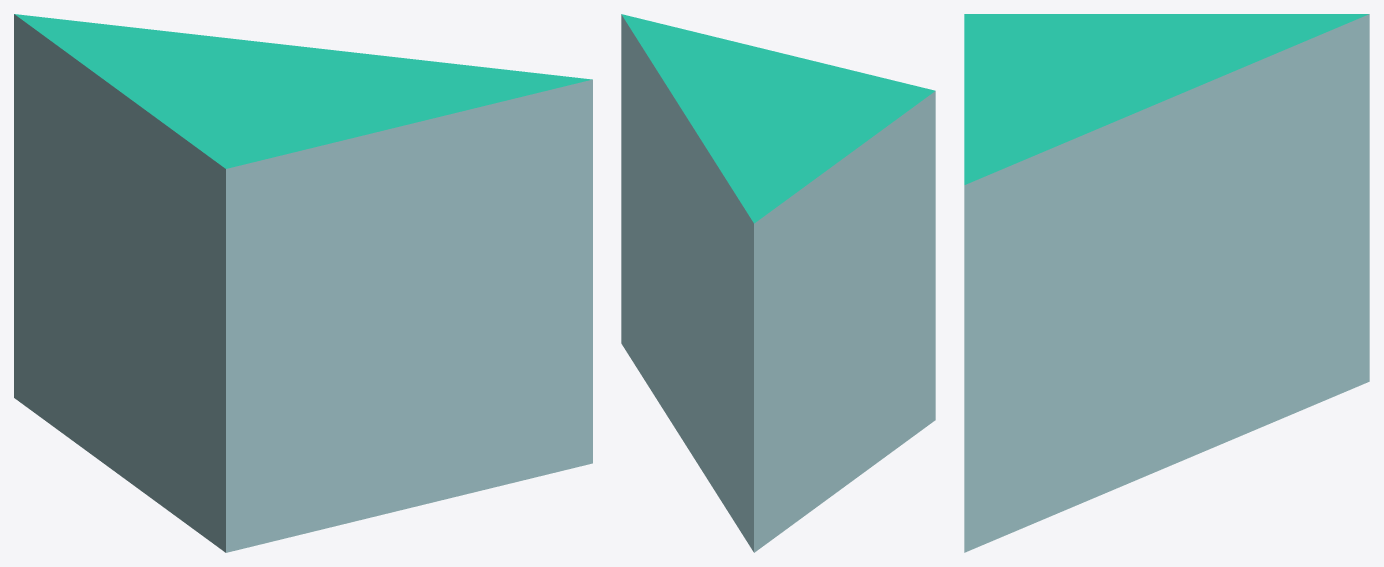
The model's file is cliff_blockDiagonal_stone.glb.
3 views of the same model, side by side, from view 1: azimuth 30°, elevation 25°; view 2: azimuth 150°, elevation 25°; view 3: azimuth 270°, elevation 25° (orthographic). The views are drawn at different scales.
Visible parts, largest first — view 1: cliff_blockDiagonal_stone; view 2: cliff_blockDiagonal_stone; view 3: cliff_blockDiagonal_stone.
Boxes of the visible parts, <box> form: cliff_blockDiagonal_stone: <box>14,14,592,552</box>; cliff_blockDiagonal_stone: <box>621,14,935,552</box>; cliff_blockDiagonal_stone: <box>964,14,1369,552</box>.
Bounding box in the file's own units: 1 × 1 × 1.
